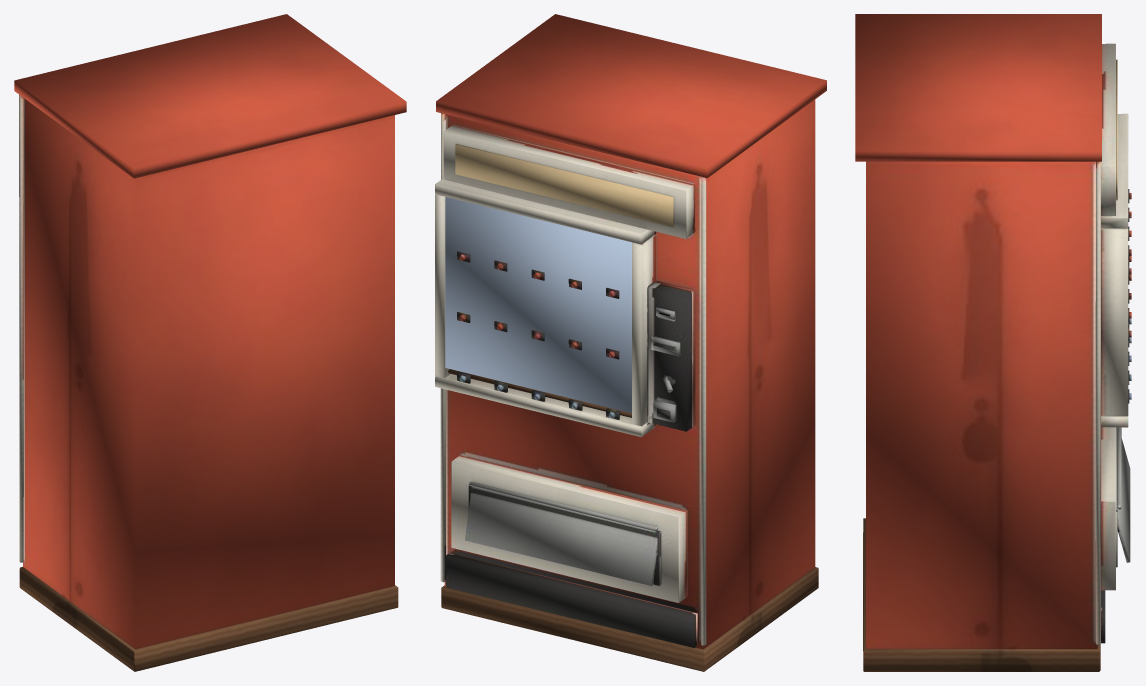
Rendered from vending_red.glb.
The picture shows the model from 3 angles, left to right: view 1: azimuth 30°, elevation 25°; view 2: azimuth 150°, elevation 25°; view 3: azimuth 270°, elevation 25°; orthographic projection. The views are drawn at different scales.
Visible parts, largest first — view 1: prop_vending_red_felt, prop_vending_red_wood; view 2: prop_vending_red_felt, prop_vending_red_glass, prop_vending_red_wood, prop_vending_red_paper; view 3: prop_vending_red_felt, prop_vending_red_wood.
Boxes of the visible parts, x1=… form: prop_vending_red_felt: x1=14, y1=14, x2=406, y2=649; prop_vending_red_wood: x1=19, y1=567, x2=398, y2=671; prop_vending_red_felt: x1=435, y1=14, x2=826, y2=649; prop_vending_red_glass: x1=445, y1=197, x2=632, y2=413; prop_vending_red_wood: x1=441, y1=369, x2=818, y2=671; prop_vending_red_paper: x1=455, y1=144, x2=673, y2=227; prop_vending_red_felt: x1=855, y1=14, x2=1131, y2=648; prop_vending_red_wood: x1=863, y1=518, x2=1100, y2=671.
Bounding box in the file's own units: 2.1 × 3.74 × 1.79.
Materials: 4 (3 with a texture image).
